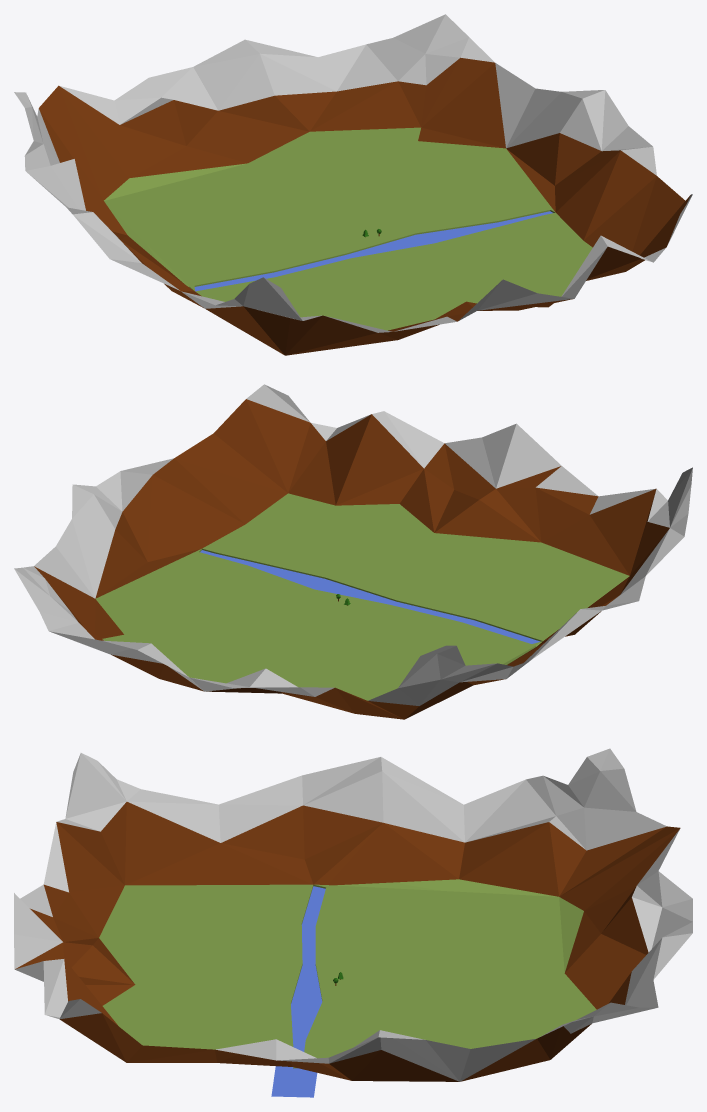
File: testSceneLowPolyblend.fbx
The picture shows the model from 3 angles, top to bottom: view 1: azimuth 30°, elevation 25°; view 2: azimuth 150°, elevation 25°; view 3: azimuth 270°, elevation 25°; orthographic projection. The views are drawn at different scales.
Visible parts, largest first — view 1: Plane, Plane.001; view 2: Plane, Plane.001; view 3: Plane, Plane.001.
Part boxes in pixels (box(x1,y1,x2,y2)): Plane: box(14, 14, 692, 355); Plane.001: box(194, 211, 552, 291); Plane: box(14, 384, 692, 719); Plane.001: box(200, 550, 540, 643); Plane: box(14, 748, 692, 1081); Plane.001: box(271, 886, 325, 1097).
Bounding box in the file's own units: 141353 × 31135 × 146856.
